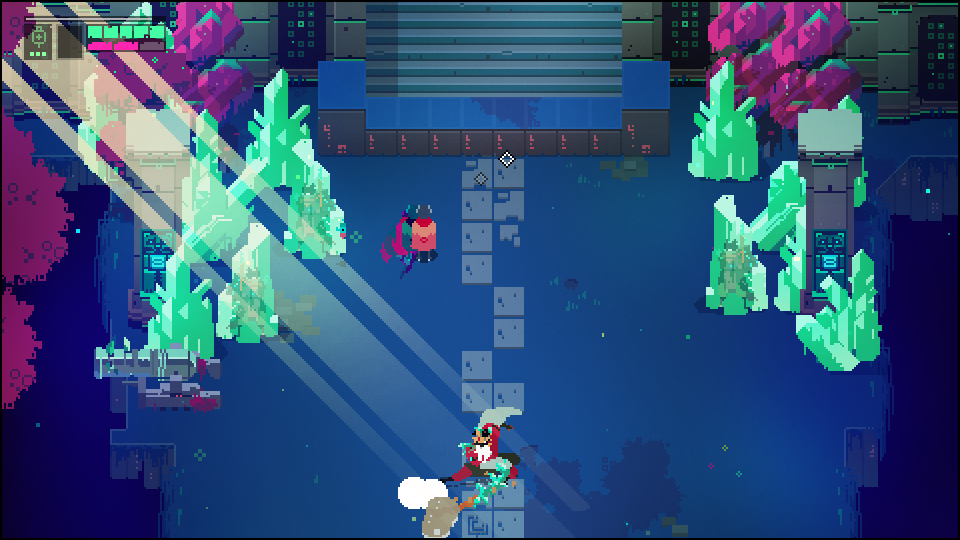hanged_man: (440, 402, 526, 516)
player: (410, 203, 438, 265)
